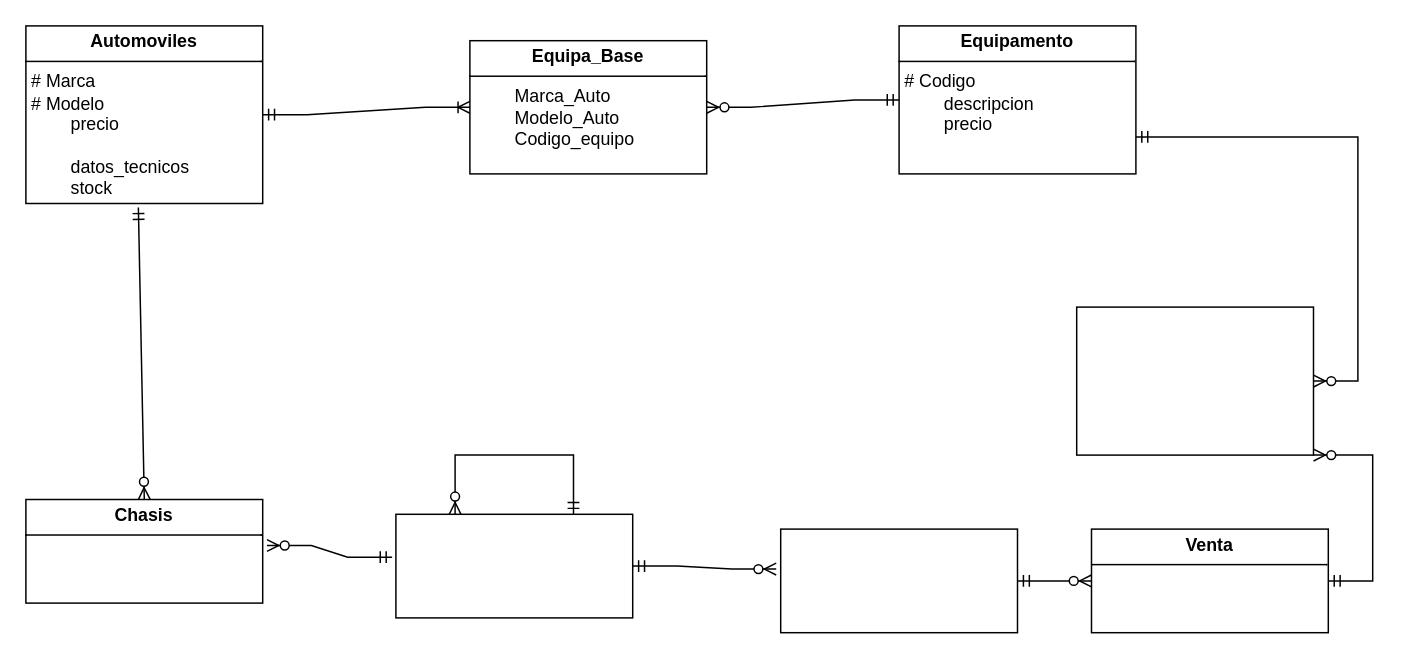
This 1412x659 diagram has some shape labels left out. The centre of each missing label's shape, as x and y in pixels:
"Extras Codigo_Equipo Chasis_Venta Precio" goes at point (1194, 380).
"Ubicacion" goes at point (513, 565).
"Vendedor" goes at point (898, 580).
